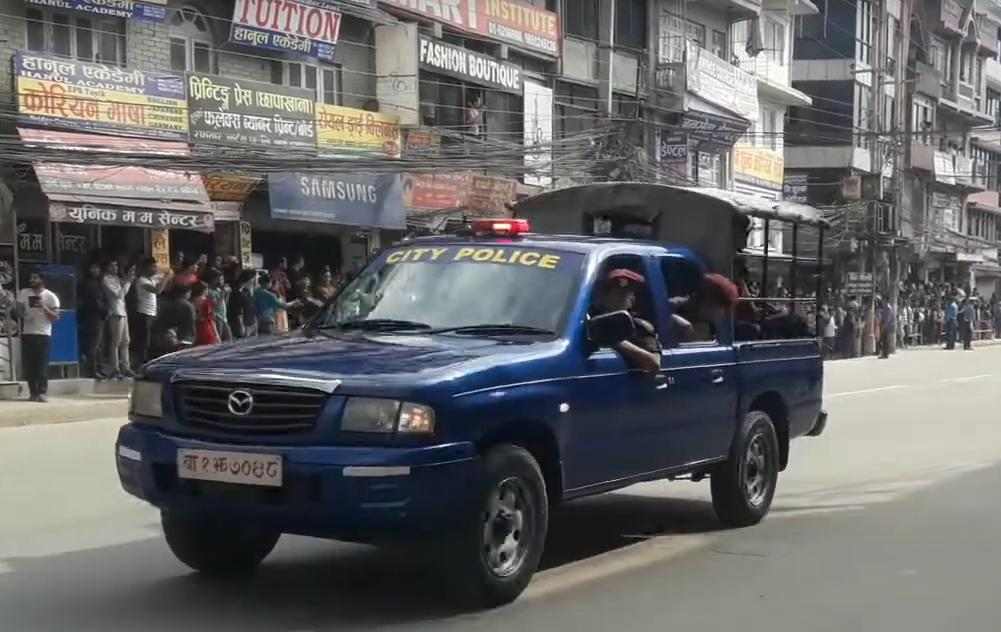police_vehicle: (115, 170, 832, 618)
